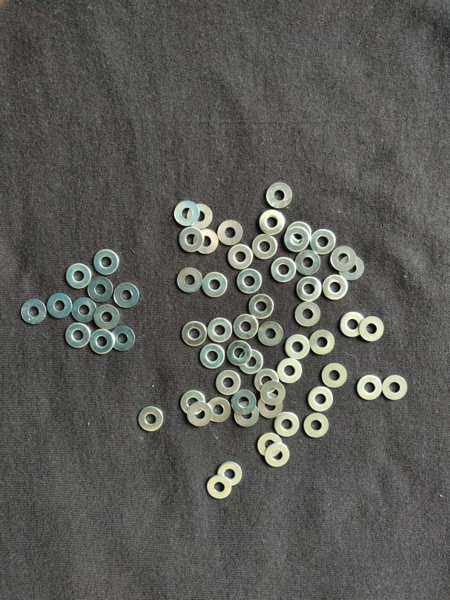circle: (235, 267, 264, 296), (176, 267, 204, 297), (259, 210, 286, 236), (382, 375, 408, 402), (187, 204, 213, 230), (21, 299, 47, 325), (228, 244, 254, 270), (200, 344, 226, 370), (267, 183, 293, 209), (215, 370, 241, 396), (277, 359, 303, 385), (340, 312, 366, 338), (286, 222, 312, 248), (310, 229, 336, 255), (174, 201, 200, 226), (179, 227, 204, 253), (194, 229, 219, 255), (66, 264, 92, 289), (217, 220, 243, 245), (94, 305, 120, 330), (88, 277, 114, 302), (233, 314, 259, 339), (207, 318, 233, 343), (180, 391, 206, 416), (252, 235, 278, 260), (272, 257, 297, 283), (254, 369, 280, 394), (285, 335, 311, 360), (310, 330, 335, 356), (295, 302, 321, 327), (323, 275, 348, 301), (331, 246, 356, 272), (296, 250, 322, 275), (284, 227, 310, 252), (304, 414, 330, 439), (322, 364, 348, 389), (358, 375, 382, 402), (94, 250, 119, 275), (47, 294, 72, 319), (72, 298, 97, 323), (66, 323, 91, 348), (114, 283, 139, 308), (202, 273, 227, 298), (259, 322, 284, 347), (138, 407, 163, 432), (188, 402, 213, 427), (232, 390, 257, 415), (259, 394, 284, 419), (261, 381, 286, 406), (239, 350, 264, 375), (297, 277, 322, 302), (340, 256, 365, 281), (275, 412, 300, 437), (207, 398, 231, 424), (359, 317, 385, 341), (217, 463, 243, 487), (90, 330, 114, 355), (111, 327, 135, 352), (249, 295, 274, 319), (182, 322, 207, 346), (235, 403, 260, 427), (258, 433, 283, 457), (265, 443, 290, 467), (309, 387, 333, 412), (207, 476, 232, 500), (228, 341, 252, 366)
